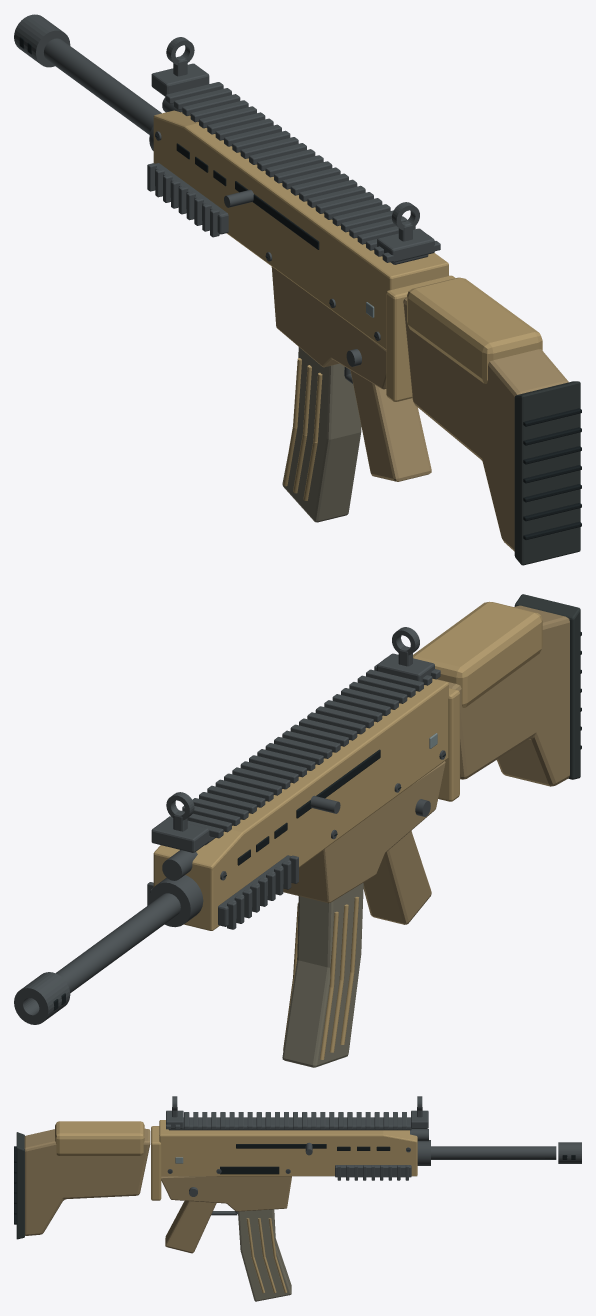
Rendered from rifle_0.glb.
The picture shows the model from 3 angles, top to bottom: view 1: azimuth 30°, elevation 25°; view 2: azimuth 150°, elevation 25°; view 3: azimuth 270°, elevation 25°; orthographic projection. The views are drawn at different scales.
Visible parts, largest first — view 1: Weapon_rifle_realism_v2; view 2: Weapon_rifle_realism_v2; view 3: Weapon_rifle_realism_v2.
Boxes of the visible parts, box(x1,y1,x2,y2) form: Weapon_rifle_realism_v2: box(14, 14, 581, 565); Weapon_rifle_realism_v2: box(14, 594, 581, 1067); Weapon_rifle_realism_v2: box(14, 1096, 581, 1301).
Size of the model in its own units: 0.122 by 0.3904 by 1.
